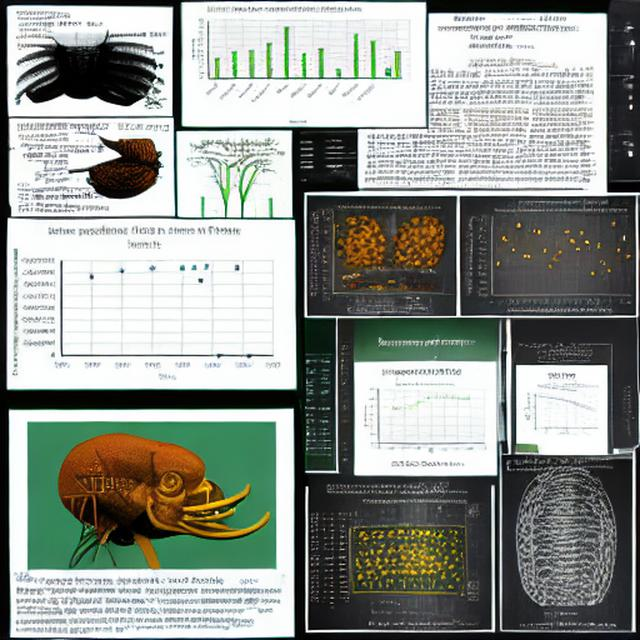Graph: (7, 222, 285, 385), (185, 3, 384, 125), (466, 206, 636, 316), (360, 379, 490, 456), (527, 384, 601, 436)
